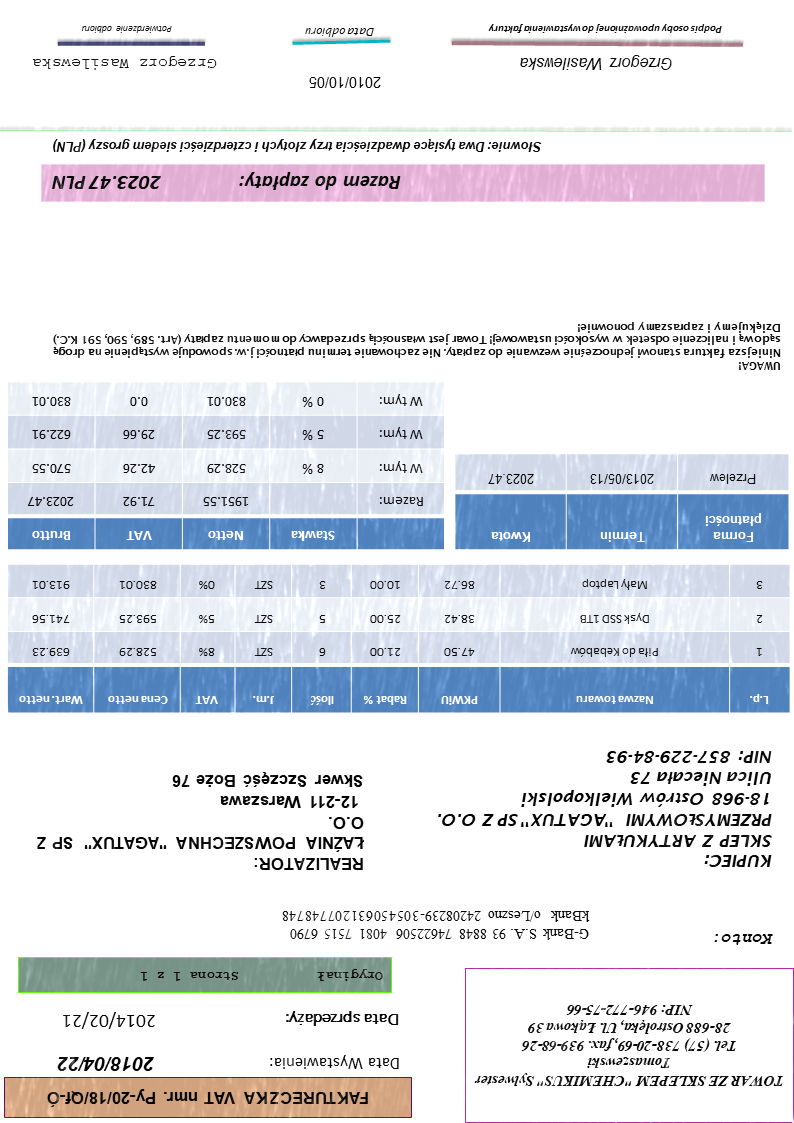Table: (6, 564, 792, 714), (6, 382, 446, 552), (455, 453, 790, 550)
TextBox: (433, 746, 777, 872), (50, 318, 784, 376), (33, 769, 367, 875), (473, 999, 787, 1093), (280, 904, 595, 945), (46, 135, 545, 159), (48, 168, 407, 199), (46, 1089, 375, 1110), (139, 966, 385, 987), (485, 21, 727, 40), (517, 53, 676, 78), (31, 54, 222, 74), (268, 1053, 402, 1074), (283, 1008, 402, 1031), (55, 1051, 160, 1077), (59, 1008, 159, 1033), (78, 20, 176, 39), (307, 72, 386, 94), (713, 930, 777, 950), (302, 26, 377, 42)
